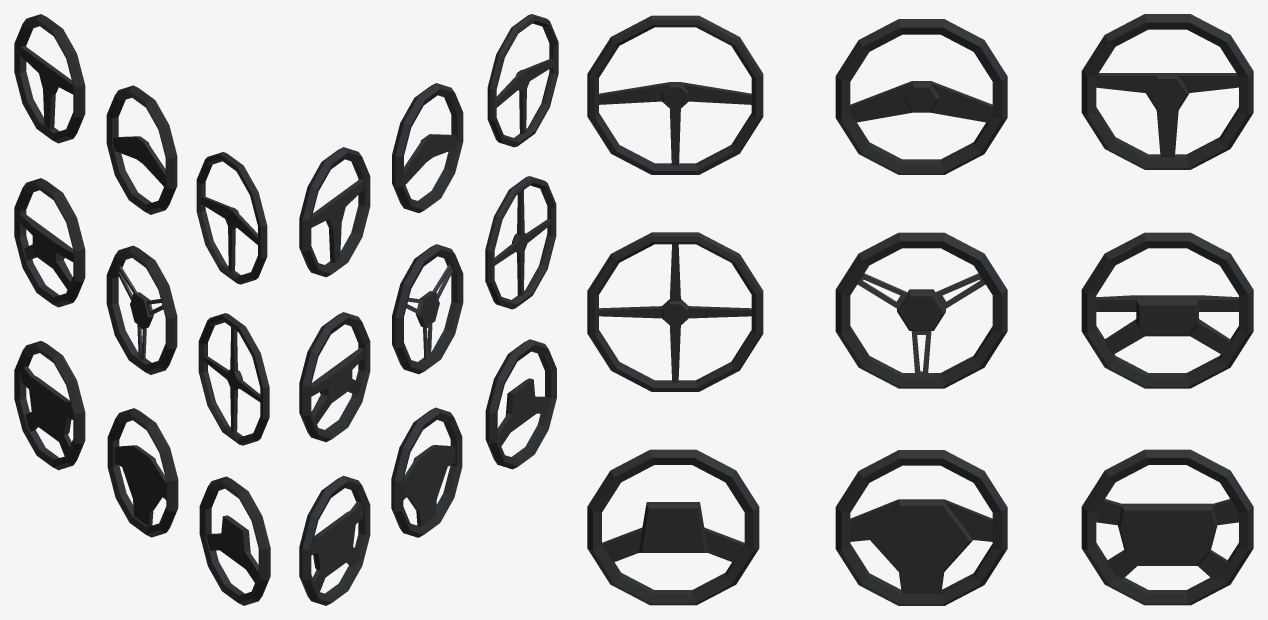
File: STEERING_WHEELS_01.glb
3 views of the same model, side by side, from view 1: azimuth 30°, elevation 25°; view 2: azimuth 150°, elevation 25°; view 3: azimuth 270°, elevation 25° (orthographic). The views are drawn at different scales.
Visible parts, largest first — view 1: INT_WHEEL.001, INT_WHEEL.003, INT_WHEEL.002, INT_WHEEL.007, INT_WHEEL.008, INT_WHEEL.005, INT_WHEEL.006, INT_WHEEL.009, INT_WHEEL; view 2: INT_WHEEL.001, INT_WHEEL.003, INT_WHEEL.002, INT_WHEEL.007, INT_WHEEL.008, INT_WHEEL.005, INT_WHEEL.006, INT_WHEEL.009, INT_WHEEL; view 3: INT_WHEEL.001, INT_WHEEL.003, INT_WHEEL.002, INT_WHEEL.007, INT_WHEEL.008, INT_WHEEL.006, INT_WHEEL.005, INT_WHEEL, INT_WHEEL.009.
Part boxes in pixels (left/top/right/bottom): INT_WHEEL.001: left=107, top=408, right=178, bottom=537; INT_WHEEL.003: left=14, top=341, right=85, bottom=470; INT_WHEEL.002: left=14, top=178, right=85, bottom=307; INT_WHEEL.007: left=199, top=476, right=270, bottom=605; INT_WHEEL.008: left=14, top=14, right=85, bottom=143; INT_WHEEL.005: left=106, top=245, right=177, bottom=374; INT_WHEEL.006: left=106, top=85, right=177, bottom=214; INT_WHEEL.009: left=198, top=313, right=269, bottom=445; INT_WHEEL: left=196, top=152, right=267, bottom=284; INT_WHEEL.001: left=391, top=407, right=462, bottom=537; INT_WHEEL.003: left=299, top=475, right=370, bottom=605; INT_WHEEL.002: left=299, top=312, right=370, bottom=442; INT_WHEEL.007: left=485, top=339, right=556, bottom=469; INT_WHEEL.008: left=299, top=147, right=370, bottom=277; INT_WHEEL.005: left=392, top=244, right=463, bottom=374; INT_WHEEL.006: left=392, top=83, right=463, bottom=212; INT_WHEEL.009: left=485, top=176, right=556, bottom=309; INT_WHEEL: left=487, top=14, right=558, bottom=147; INT_WHEEL.001: left=835, top=450, right=1007, bottom=605; INT_WHEEL.003: left=1081, top=449, right=1253, bottom=605; INT_WHEEL.002: left=1081, top=232, right=1253, bottom=388; INT_WHEEL.007: left=587, top=449, right=759, bottom=605; INT_WHEEL.008: left=1081, top=14, right=1253, bottom=169; INT_WHEEL.006: left=835, top=19, right=1007, bottom=174; INT_WHEEL.005: left=835, top=232, right=1007, bottom=388; INT_WHEEL: left=587, top=15, right=763, bottom=174; INT_WHEEL.009: left=587, top=232, right=763, bottom=391.
Size of the model in its own units: 0.0439 by 1.48 by 1.51.
Materials: 1 (1 with a texture image).
